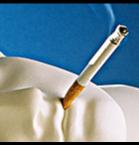Cigarette: (61, 24, 128, 108)
